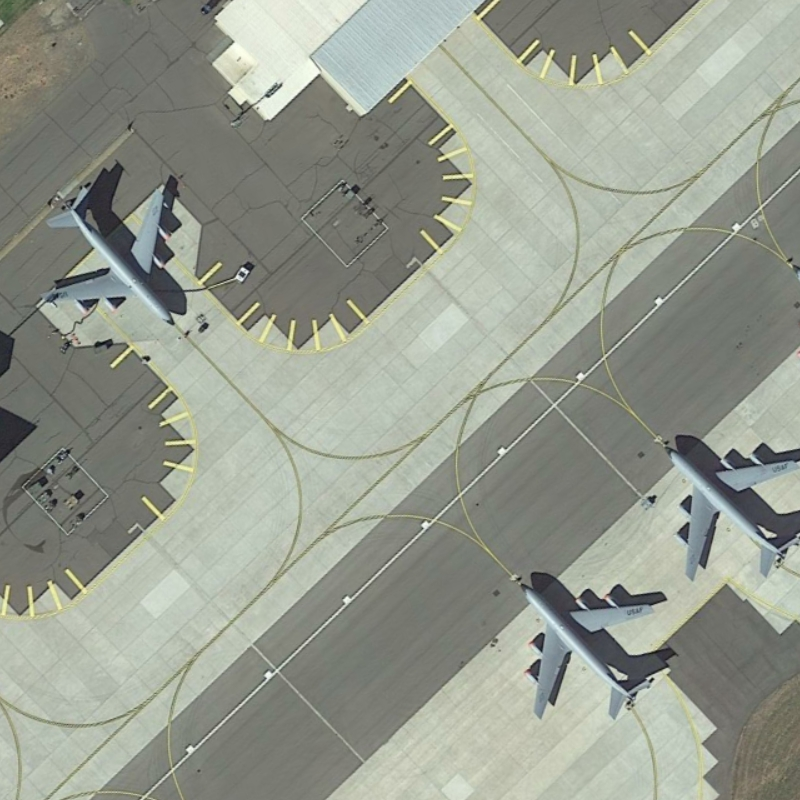A14: (498, 561, 683, 730), (34, 169, 203, 337), (657, 423, 800, 582)
